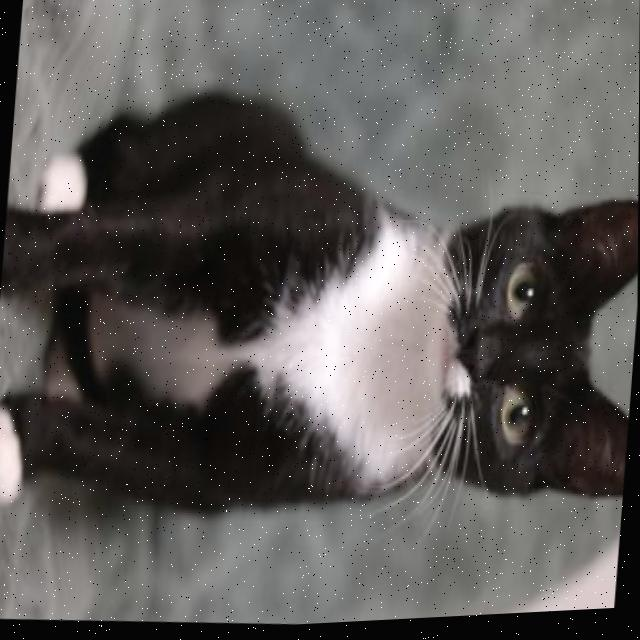Tuxedo: (0, 49, 640, 563)
